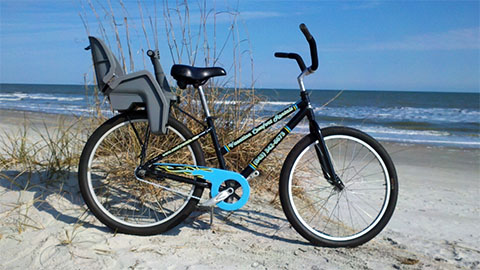bike: (74, 14, 432, 257)
